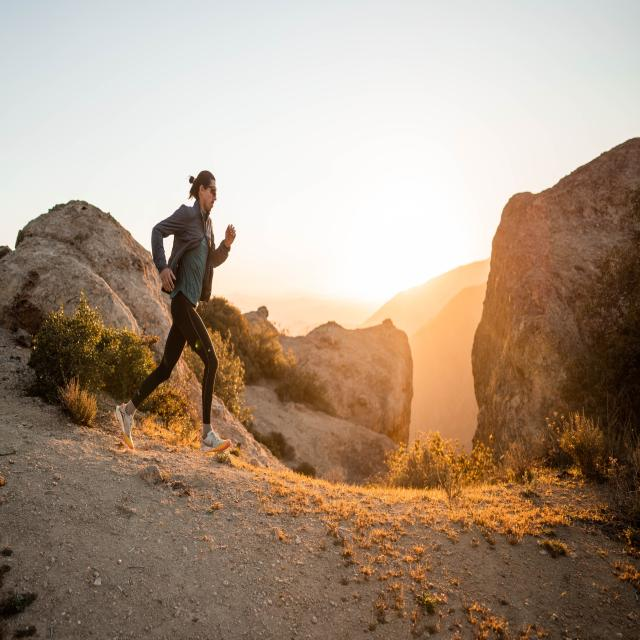running: (115, 169, 242, 457)
